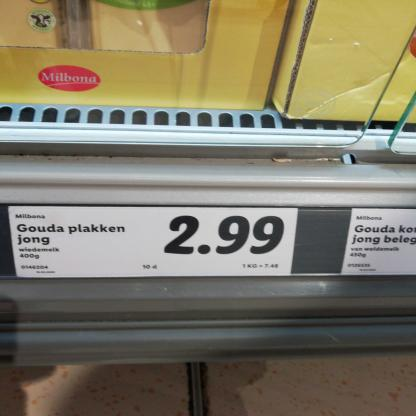prtg: (9, 207, 300, 278), (342, 209, 416, 275)
